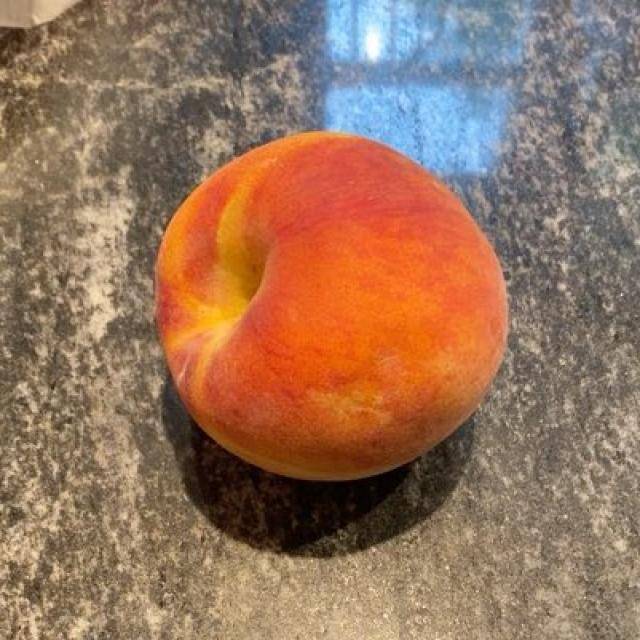peach: (154, 138, 505, 494)
